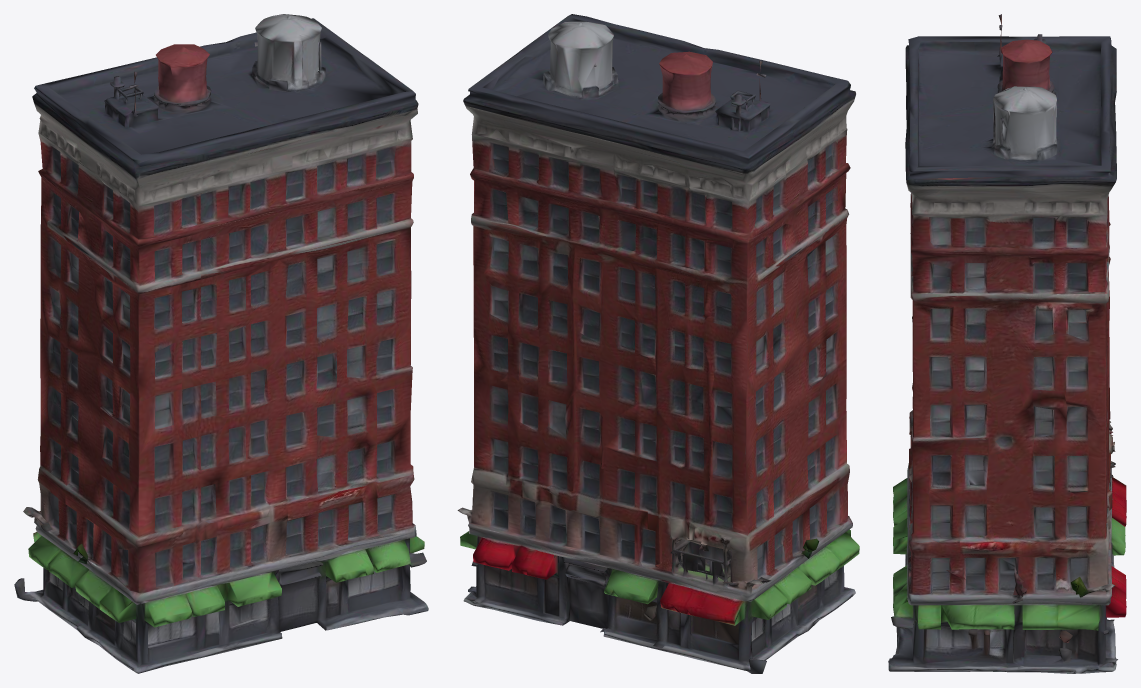
File: bld7_hi.glb
3 views of the same model, side by side, from view 1: azimuth 30°, elevation 25°; view 2: azimuth 150°, elevation 25°; view 3: azimuth 270°, elevation 25° (orthographic). The views are drawn at different scales.
Visible parts, largest first — view 1: tripo_node_a166f90c-aada-4756-a2b3-a43c1e9db881; view 2: tripo_node_a166f90c-aada-4756-a2b3-a43c1e9db881; view 3: tripo_node_a166f90c-aada-4756-a2b3-a43c1e9db881.
Boxes of the visible parts, box(x1,y1,x2,y2) form: tripo_node_a166f90c-aada-4756-a2b3-a43c1e9db881: box(14, 14, 428, 673); tripo_node_a166f90c-aada-4756-a2b3-a43c1e9db881: box(457, 14, 859, 673); tripo_node_a166f90c-aada-4756-a2b3-a43c1e9db881: box(888, 14, 1126, 673).
Bounding box in the file's own units: 0.5856 × 0.9998 × 0.3929.
1 material, 1 textured.
